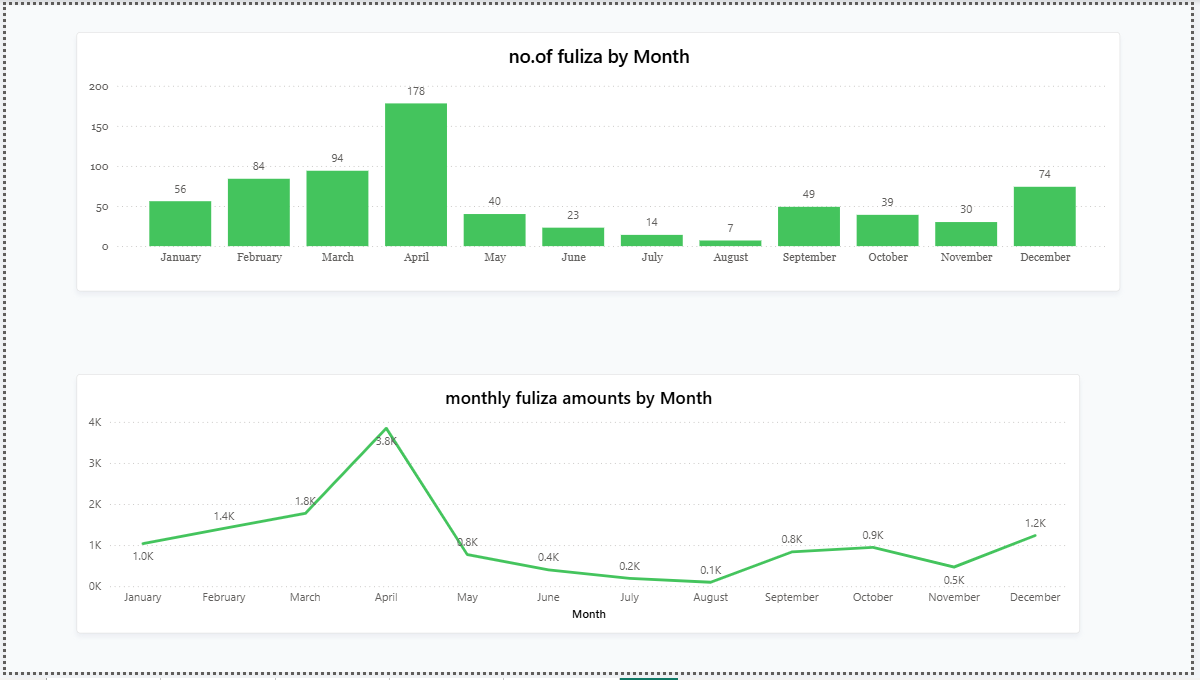

Layout of this report page (visuals, bound fields, positions):
{"tool":"powerbi","page":{"name":"Page 5","canvas":[1280,720],"ordinal":4},"visuals":[{"type":"clusteredColumnChart","fields":{"Y":["Transactions.no.of fuliza"],"Category":["Transactions.Month.Variation.Date Hierarchy.Month"]},"box":[76.1,29.1,1127,280.1],"z":0},{"type":"lineChart","fields":{"Category":["Transactions.Month.Variation.Date Hierarchy.Month"],"Y":["Transactions.monthly fuliza amounts"]},"box":[76.1,398.3,1083.3,280.1],"z":1}]}

Visuals, with their boxes in screenshot pixels (x1, y1, x2, y2), scaled from the page's 1280x720 canvas onto the 1200x680 screenshot:
clusteredColumnChart - Transactions.no.of fuliza x Transactions.Month.Variation.Date Hierarchy.Month: pyautogui.locateOnScreen(71, 27, 1128, 292)
lineChart - Transactions.Month.Variation.Date Hierarchy.Month x Transactions.monthly fuliza amounts: pyautogui.locateOnScreen(71, 376, 1087, 641)
